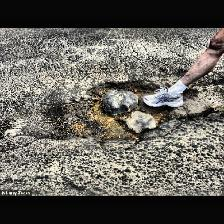pothole: (42, 80, 174, 142)
